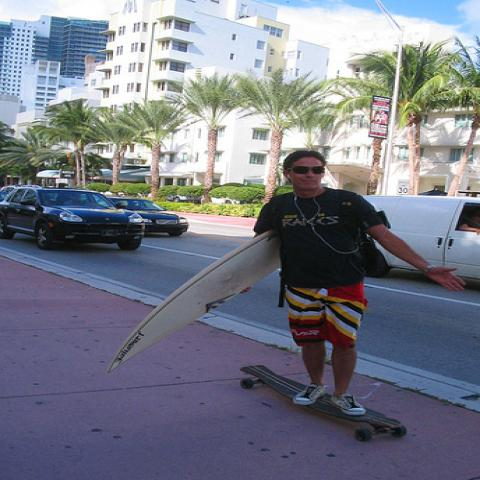car: (0, 181, 139, 249), (108, 197, 189, 237)
truck: (357, 193, 479, 285)
